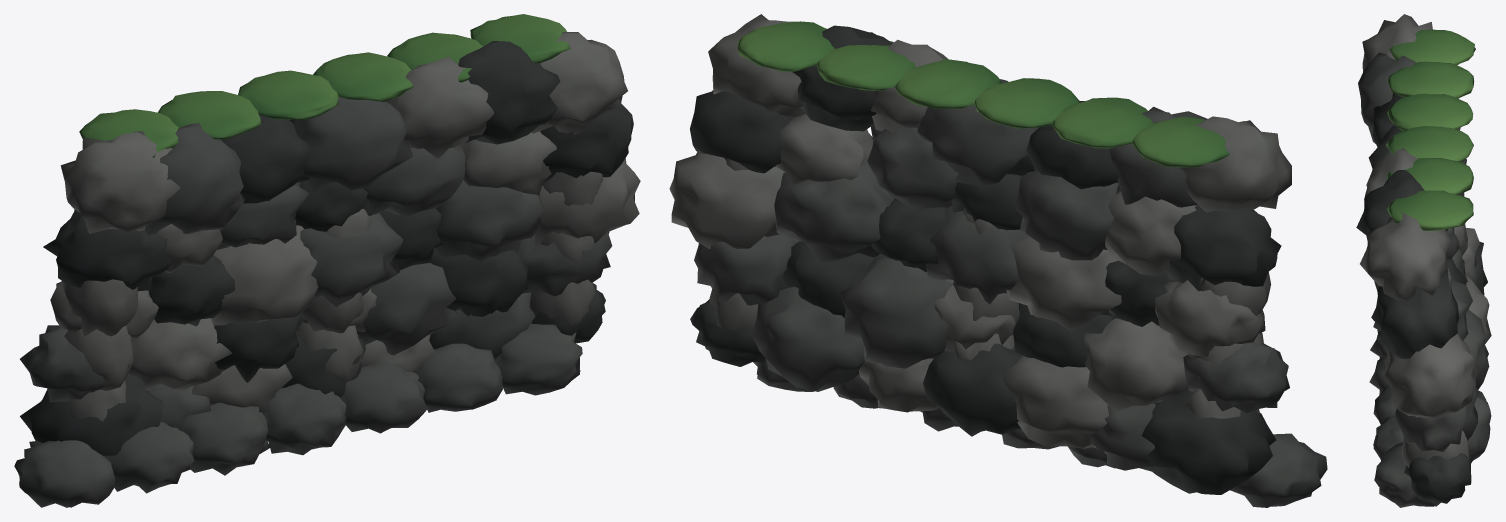
Rendered from cliff.glb.
The picture shows the model from 3 angles, left to right: view 1: azimuth 30°, elevation 25°; view 2: azimuth 150°, elevation 25°; view 3: azimuth 270°, elevation 25°; orthographic projection. The views are drawn at different scales.
Visible parts, largest first — view 1: Icosphere.037, Icosphere.040, Icosphere.022, Icosphere.038, Icosphere.041, Icosphere.042, Icosphere.025, Icosphere.030, Icosphere.014, Icosphere.043, Icosphere.023, Icosphere.050 (+44 smaller); view 2: Icosphere, Icosphere.014, Icosphere.026, Icosphere.005, Icosphere.025, Icosphere.011, Icosphere.030, Icosphere.037, Icosphere.002, Icosphere.022, Icosphere.032, Icosphere.040 (+35 smaller); view 3: Icosphere.026, Icosphere.043, Icosphere.036, Icosphere.006, Icosphere.016, Icosphere.049, Icosphere.045, Icosphere.046, Icosphere.047, Icosphere.044, Icosphere.038, Icosphere.042 (+21 smaller).
Boxes of the visible parts, x1,y1,x2,y2 form: Icosphere.037: (60, 131, 180, 233); Icosphere.040: (290, 96, 412, 191); Icosphere.022: (211, 225, 318, 325); Icosphere.038: (144, 123, 245, 235); Icosphere.041: (385, 57, 494, 158); Icosphere.042: (458, 41, 560, 144); Icosphere.025: (435, 180, 542, 261); Icosphere.030: (43, 209, 171, 291); Icosphere.014: (357, 263, 457, 355); Icosphere.043: (531, 32, 627, 135); Icosphere.023: (300, 212, 403, 307); Icosphere.050: (14, 440, 115, 507); Icosphere: (1141, 388, 1276, 494); Icosphere.014: (840, 256, 953, 368); Icosphere.026: (669, 151, 784, 248); Icosphere.005: (752, 286, 864, 391); Icosphere.025: (774, 163, 892, 263); Icosphere.011: (1084, 318, 1188, 411); Icosphere.030: (1165, 205, 1281, 291); Icosphere.037: (1178, 116, 1291, 212); Icosphere.002: (1003, 355, 1108, 448); Icosphere.022: (1006, 236, 1121, 331); Icosphere.032: (1014, 171, 1118, 260); Icosphere.040: (917, 79, 1039, 186); Icosphere.026: (1383, 333, 1476, 418); Icosphere.043: (1360, 211, 1452, 300); Icosphere.036: (1371, 268, 1459, 358); Icosphere.006: (1404, 449, 1471, 506); Icosphere.016: (1395, 387, 1479, 452); Icosphere.049: (1387, 190, 1473, 231); Icosphere.045: (1387, 61, 1474, 98); Icosphere.046: (1387, 93, 1473, 130); Icosphere.047: (1386, 126, 1473, 161); Icosphere.044: (1386, 29, 1475, 65); Icosphere.038: (1358, 52, 1415, 143); Icosphere.042: (1356, 170, 1447, 238).
Size of the model in its own units: 48.23 by 26.87 by 10.69.
